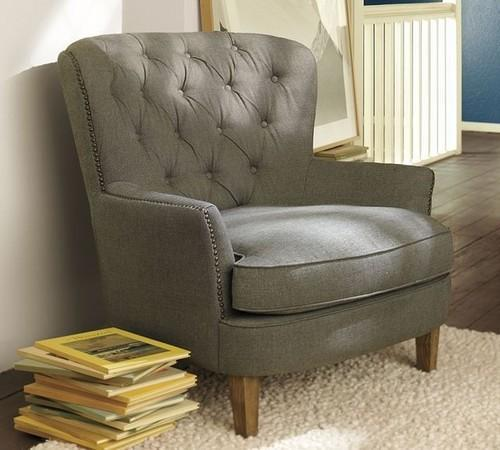chairs: (53, 33, 454, 445)
